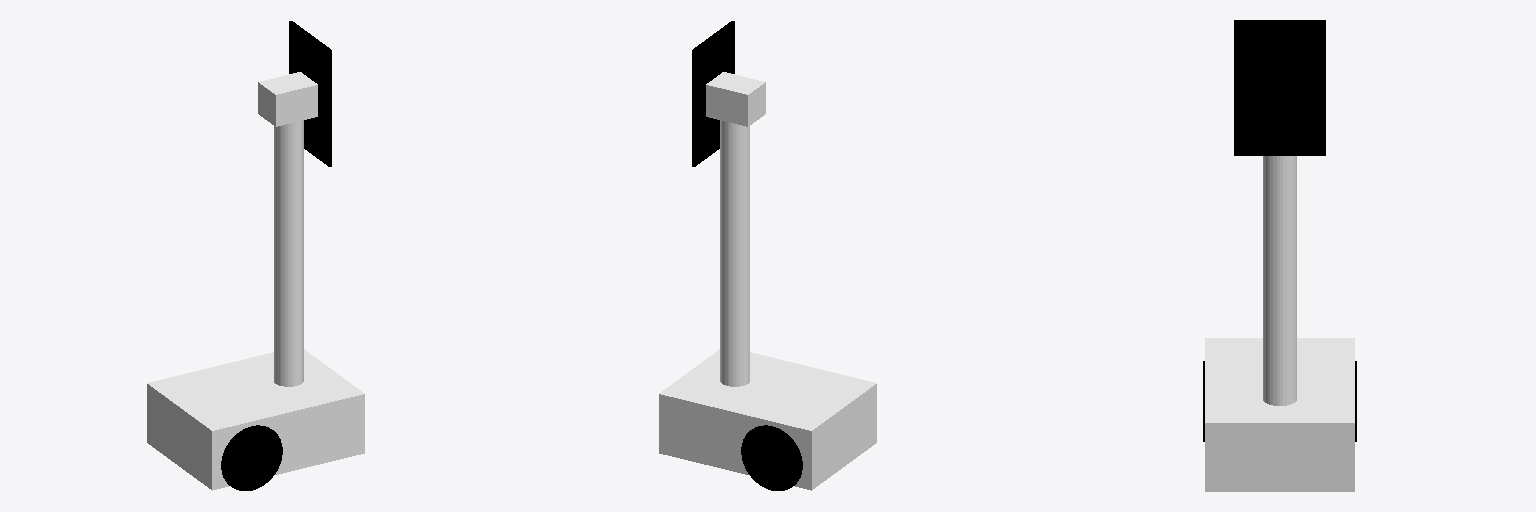
The robot description file, URDF, robot "padbot_p1":
<?xml version="1.0" ?>
<robot name="padbot_p1" xmlns:xacro="http://ros.org/wiki/xacro">
    <material name="white">
        <color rgba="1.0 1.0 1.0 1.0"/>
    </material>
    <material name="grey">
        <color rgba="0.5 0.5 0.5 1.0"/>
    </material>
    <material name="black">
        <color rgba="0.0 0.0 0.0 1.0"/>
    </material>
    
    <link name="base_link">
        <inertial>
            <mass value="2"/>
            <origin xyz="0 0 0.0"/>
            <inertia ixx="0.01" ixy="0.0" ixz="0.0" iyy="0.01" iyz="0.0" izz="0.5"/>
        </inertial>
        <visual>
            <origin rpy="0 0 0" xyz="0 0 0"/>
            <geometry>
                <box size="0.35 0.26 0.13"/>
            </geometry>
            <material name="white"/>
        </visual>
        <collision>
            <origin rpy="0 0 0" xyz="0 0 0"/>
            <geometry>
                <box size="0.35 0.26 0.13"/>
            </geometry>
        </collision>
    </link>
    <link name="pole">
        <inertial>
            <mass value="0.001"/>
            <origin xyz="0 0 0"/>
            <inertia ixx="0.0001" ixy="0.0" ixz="0.0" iyy="0.0001" iyz="0.0" izz="0.0001"/>
        </inertial>
        <visual>
            <origin rpy="0 0 0" xyz="0 0 0.34"/>
            <geometry>
                <cylinder length="0.68" radius="0.03"/>
            </geometry>
            <material name="white"/>
        </visual>
        <collision>
            <origin rpy="0 0 0" xyz="0 0 0.34"/>
            <geometry>
                <cylinder length="0.68" radius="0.03"/>
            </geometry>
        </collision>
    </link>
    <link name="tablet_holder">
        <inertial>
            <mass value="0.001"/>
            <origin xyz="0 0 0"/>
            <inertia ixx="0.0001" ixy="0.0" ixz="0.0" iyy="0.0001" iyz="0.0" izz="0.0001"/>
        </inertial>
        <visual>
            <origin rpy="0 0 0" xyz="0 0 0"/>
            <geometry>
                <box size="0.1 0.07 0.07"/>
            </geometry>
            <material name="white"/>
        </visual>
        <collision>
            <origin rpy="0 0 0" xyz="0 0 0"/>
            <geometry>
                <box size="0.1 0.07 0.07"/>
            </geometry>
        </collision>
    </link>
    <link name="tablet">
        <inertial>
            <mass value="0.001"/>
            <origin xyz="0 0 0"/>
            <inertia ixx="0.0001" ixy="0.0" ixz="0.0" iyy="0.0001" iyz="0.0" izz="0.0001"/>
        </inertial>
        <visual>
            <origin rpy="0 0 0" xyz="0 0 0"/>
            <geometry>
                <box size="0.006 0.16 0.255"/>
            </geometry>
            <material name="black"/>
        </visual>
        <collision>
            <origin rpy="0 0 0" xyz="0 0 0"/>
            <geometry>
                <box size="0.006 0.16 0.255"/>
            </geometry>
        </collision>
    </link>
    <link name="left_wheel">
        <inertial>
            <mass value="0.001"/>
            <origin xyz="0 0 0"/>
            <inertia ixx="0.0001" ixy="0.0" ixz="0.0" iyy="0.0001" iyz="0.0" izz="0.0001"/>
        </inertial>
        <visual>
            <origin rpy="1.5707 0 0" xyz="0 0 0"/>
            <geometry>
                <cylinder length="0.045" radius="0.07"/>
            </geometry>
            <material name="black"/>
        </visual>
        <collision>
            <origin rpy="1.5707 0 0" xyz="0 0 0"/>
            <geometry>
                <cylinder length="0.045" radius="0.07"/>
            </geometry>
        </collision>
    </link>
    <link name="right_wheel">
        <inertial>
            <mass value="0.001"/>
            <origin xyz="0 0 0"/>
            <inertia ixx="0.0001" ixy="0.0" ixz="0.0" iyy="0.0001" iyz="0.0" izz="0.0001"/>
        </inertial>
        <visual>
            <origin rpy="1.5707 0 0" xyz="0 0 0"/>
            <geometry>
                <cylinder length="0.045" radius="0.07"/>
            </geometry>
            <material name="black"/>
        </visual>
        <collision>
            <origin rpy="1.5707 0 0" xyz="0 0 0"/>
            <geometry>
                <cylinder length="0.045" radius="0.07"/>
            </geometry>
        </collision>
    </link>
    <link name="caster_holder">
        <inertial>
            <mass value="0.001"/>
            <origin xyz="0 0 0"/>
            <inertia ixx="0.0001" ixy="0.0" ixz="0.0" iyy="0.0001" iyz="0.0" izz="0.0001"/>
        </inertial>
        <visual>
            <origin rpy="0 0 0" xyz="0 0 0"/>
            <geometry>
                <box size="0.01 0.015 0.01"/>
            </geometry>
            <material name="grey"/>
        </visual>
        <collision>
            <origin rpy="0 0 0" xyz="0 0 0"/>
            <geometry>
                <box size="0.01 0.015 0.01"/>
            </geometry>
        </collision>
    </link>
    <link name="caster_wheel">
        <inertial>
            <mass value="0.001"/>
            <origin xyz="0 0 0"/>
            <inertia ixx="0.0001" ixy="0.0" ixz="0.0" iyy="0.0001" iyz="0.0" izz="0.0001"/>
        </inertial>
        <visual>
            <origin rpy="1.5707 0 0" xyz="0 0 0"/>
            <geometry>
                <cylinder length="0.02" radius="0.01"/>
            </geometry>
            <material name="black"/>
        </visual>
        <collision>
            <origin rpy="1.5707 0 0" xyz="0 0 0"/>
            <geometry>
                <cylinder length="0.02" radius="0.01"/>
            </geometry>
        </collision>
    </link>
    
    <joint name="base_pole" type="fixed">
        <origin rpy="0 0 0" xyz="0.075 0 0"/>
        <parent link="base_link"/>
        <child link="pole"/>
    </joint>   
    <joint name="tablet_holder_joint" type="revolute">
        <origin rpy="0 0 0" xyz="0 0 0.68"/>
         <limit effort="30" lower="-0.785398" upper="0.05" velocity= "0.5"/>
        <axis xyz="0 1 0" />
        <parent link="pole"/>
        <child link="tablet_holder"/>
    </joint>   
    <joint name="tablet_joint" type="fixed">
        <origin rpy="0 0 0" xyz="0.05 0 0"/>
        <parent link="tablet_holder"/>
        <child link="tablet"/>
    </joint>
    <joint name="leftwheel_joint" type="continuous">
        <origin rpy="0 0 0" xyz="-0.085 0.11 -0.015"/>
        <axis xyz="0 1 0" />
        <parent link="base_link"/>
        <child link="left_wheel"/>
    </joint>
    <joint name="rightwheel_joint" type="continuous">
        <origin rpy="0 0 0" xyz="-0.085 -0.11 -0.015"/>
        <axis xyz="0 1 0" />
        <parent link="base_link"/>
        <child link="right_wheel"/>
    </joint>
    <joint name="casterholder_joint" type="continuous">
        <origin rpy="0 0 0" xyz="0.105 0 -0.07"/>
        <axis xyz="0 0 1" />
        <parent link="base_link"/>
        <child link="caster_holder"/>
    </joint>
    <joint name="caster_joint" type="continuous">
        <origin rpy="0 0 0" xyz="0 0 -0.005"/>
        <axis xyz="0 1 0" />
        <parent link="caster_holder"/>
        <child link="caster_wheel"/>
    </joint>
</robot>

--- Render facts (derived) ---
The picture shows the robot from 3 angles, left to right: view 1: azimuth 30°, elevation 25°; view 2: azimuth 150°, elevation 25°; view 3: azimuth 270°, elevation 25°; orthographic projection.
Model padbot_p1 with 8 links and 7 joints (1 revolute, 4 continuous, 2 fixed), rooted at base_link, posed every joint at zero.
Links seen in each view (by area): view 1: base_link, pole, tablet, right_wheel, tablet_holder; view 2: base_link, pole, tablet, left_wheel, tablet_holder; view 3: base_link, tablet, pole.
Boxes of the visible links, x1,y1,x2,y2 form: base_link: (147,349,364,490); pole: (274,120,303,386); tablet: (289,21,331,166); right_wheel: (221,425,282,490); tablet_holder: (258,72,317,126); base_link: (659,349,876,490); pole: (720,120,749,386); tablet: (692,21,734,166); left_wheel: (741,425,802,490); tablet_holder: (706,72,765,126); base_link: (1205,338,1354,491); tablet: (1234,20,1325,155); pole: (1263,156,1296,405).
Size in the robot's own frame: 0.35 by 0.265 by 0.8925 metres.
Geometry: primitives only (box / cylinder / sphere), no mesh files.